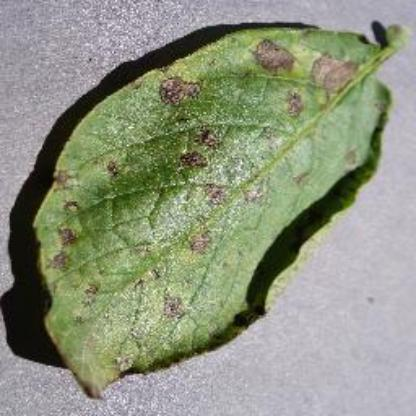Early-Blight: (15, 10, 416, 398)
